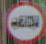Heavy Vehicles: (3, 1, 45, 41)
